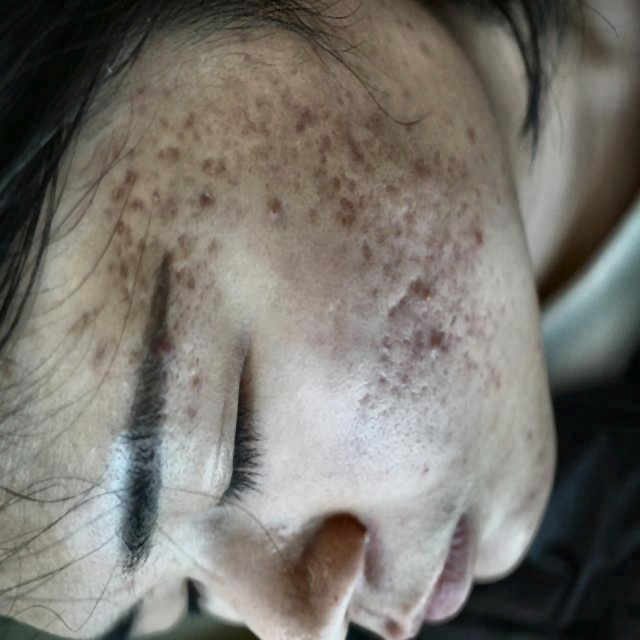pustule: (426, 330, 452, 373), (156, 136, 182, 177), (118, 248, 142, 292), (200, 139, 229, 174), (331, 193, 359, 229), (465, 219, 490, 254), (109, 162, 133, 197), (110, 209, 131, 244), (194, 185, 218, 211), (410, 280, 433, 304), (124, 192, 143, 214), (410, 330, 425, 353)
